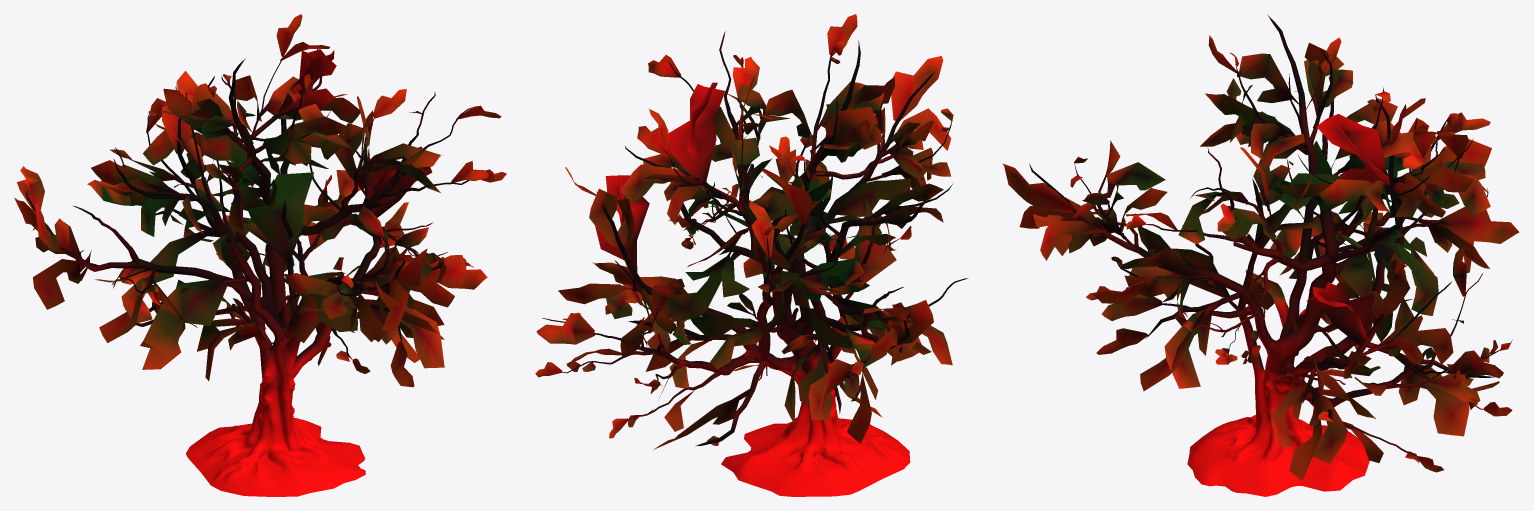
Rendered from JOGCA_Prop.fbx.
3 renders of one model, left to right at view 1: azimuth 30°, elevation 25°; view 2: azimuth 150°, elevation 25°; view 3: azimuth 270°, elevation 25°, orthographic. The views are drawn at different scales.
Visible parts, largest first — view 1: JOGCA_Prop; view 2: JOGCA_Prop; view 3: JOGCA_Prop.
Part boxes in pixels (x1=…): JOGCA_Prop: x1=14, y1=14, x2=506, y2=496; JOGCA_Prop: x1=535, y1=14, x2=968, y2=496; JOGCA_Prop: x1=1002, y1=15, x2=1519, y2=496.
Bounding box in the file's own units: 15.42 × 16.47 × 18.09.
